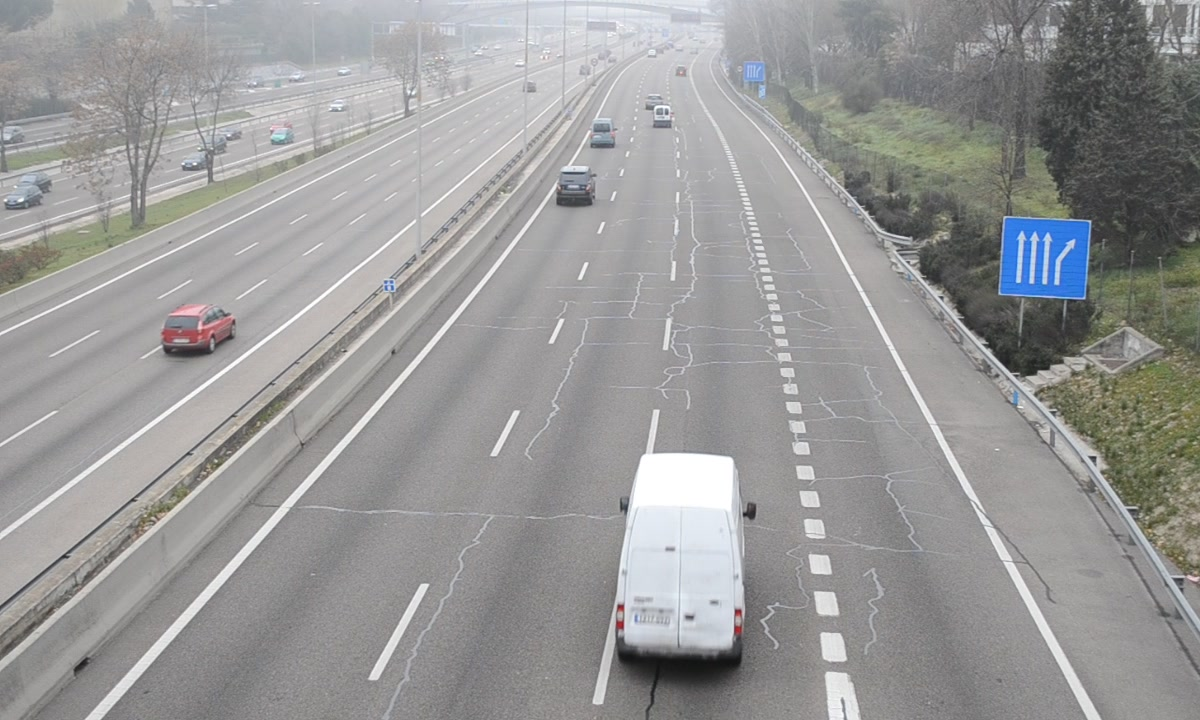car: (556, 166, 595, 205)
van: (613, 454, 747, 668), (590, 117, 615, 148)
